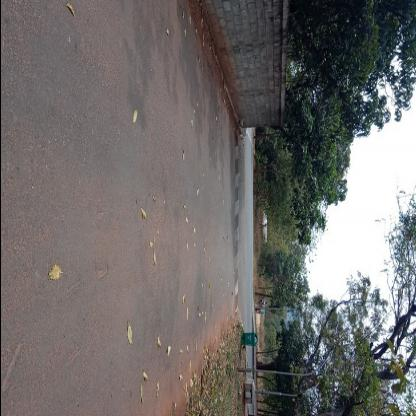speed-bumps: (224, 108, 251, 310)
